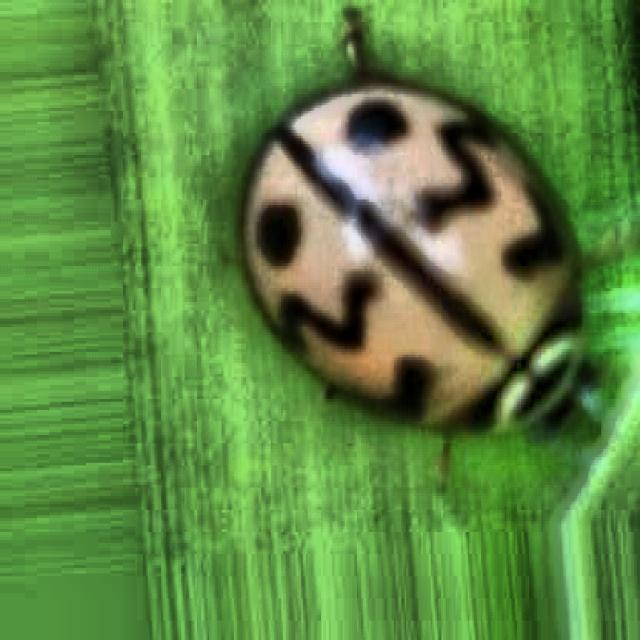Asian-Lady-beetle: (213, 18, 622, 620)
